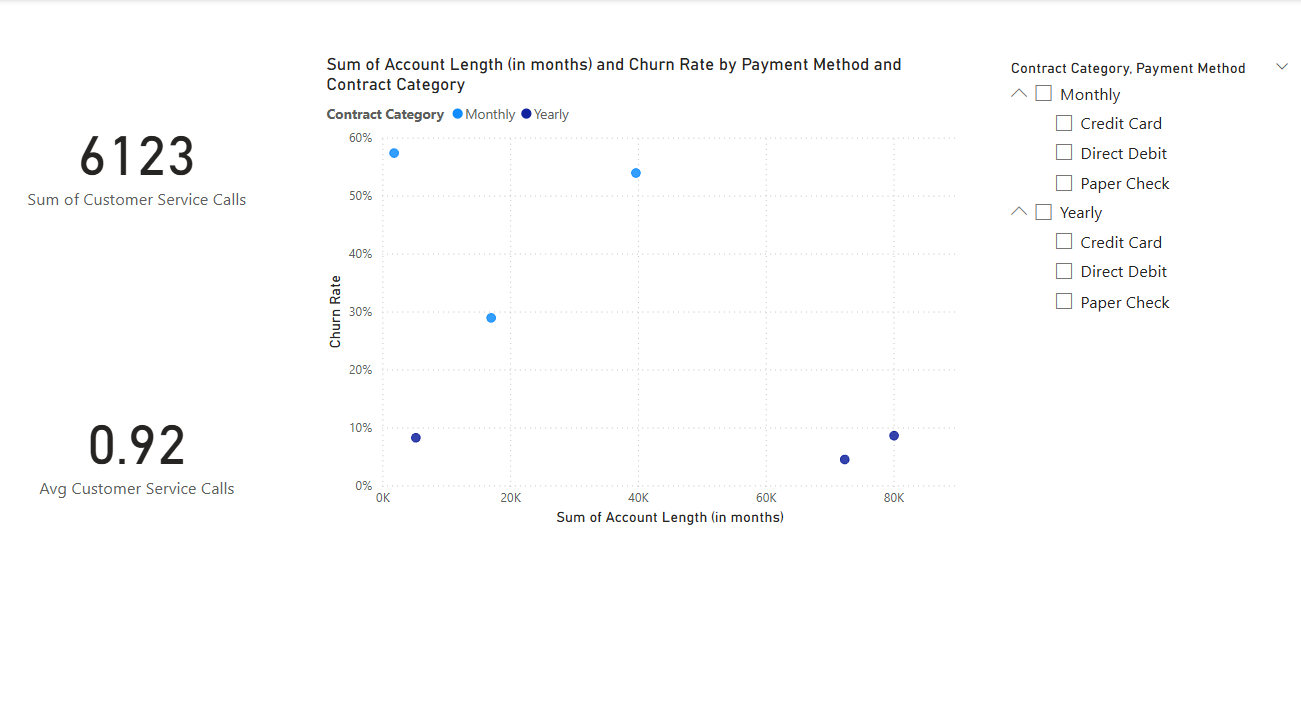

What the dashboard file says about the page in this screenshot:
{"tool":"powerbi","page":{"name":"Payment and Contract","canvas":[1280,720],"ordinal":7},"visuals":[{"type":"card","fields":{"Values":["__Measures.Avg Customer Service Calls"]},"box":[0,300.1,279.9,279.9],"z":0},{"type":"card","fields":{"Values":["Sum(Databel - Data.Customer Service Calls)"]},"box":[0,17.3,279.9,279.9],"z":1},{"type":"scatterChart","fields":{"Category":["Databel - Data.Payment Method"],"X":["Sum(Databel - Data.Account Length (in months))"],"Y":["__Measures.Churn Rate"],"Series":["Databel - Data.Contract Category"]},"box":[320.3,53.4,637.7,466],"z":2},{"type":"slicer","fields":{"Values":["Databel - Data.Contract Category","Databel - Data.Payment Method"]},"box":[982.5,53.4,297.2,307.3],"z":3}]}

Visuals, with their boxes on the page's 1280x720 design canvas (x1, y1, x2, y2). These are canvas units, not pixel positions in the 1301x701 screenshot, which may show the page scaled, cropped or inside an application window:
card - __Measures.Avg Customer Service Calls: <box>0,300,280,580</box>
card - Sum(Databel - Data.Customer Service Calls): <box>0,17,280,297</box>
scatterChart - Databel - Data.Payment Method x Sum(Databel - Data.Account Length (in months)): <box>320,53,958,519</box>
slicer - Databel - Data.Contract Category x Databel - Data.Payment Method: <box>982,53,1280,361</box>
